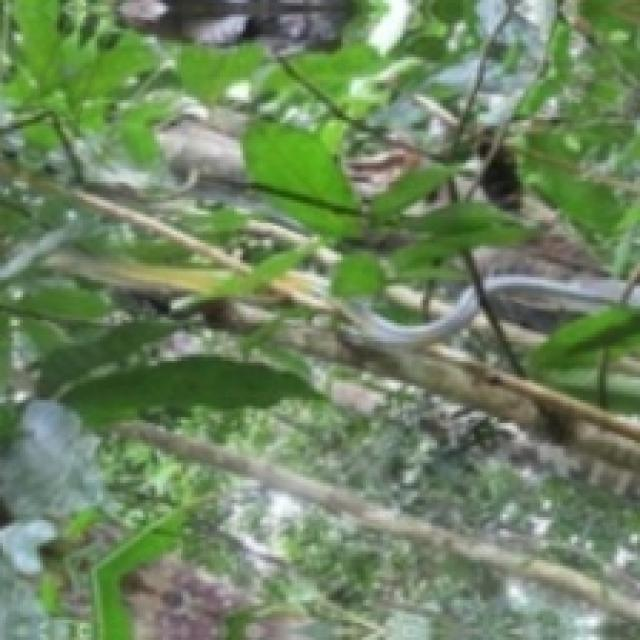red-tailed green ratsnake: (271, 270, 480, 348), (46, 250, 230, 297), (485, 276, 609, 300)
